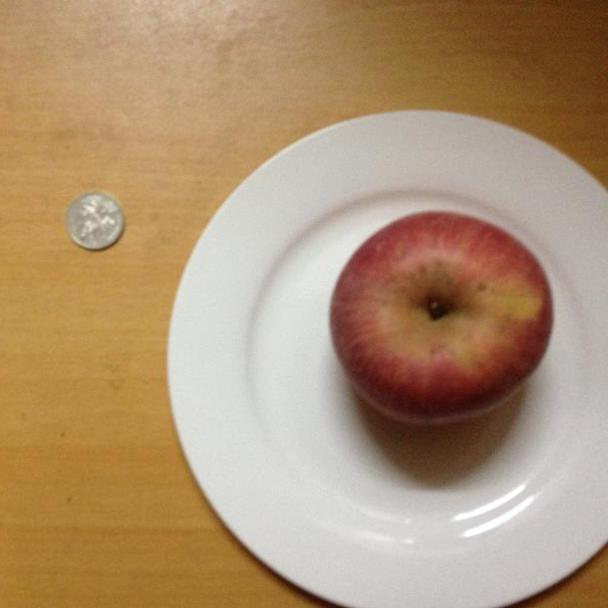apple: (328, 209, 556, 430)
